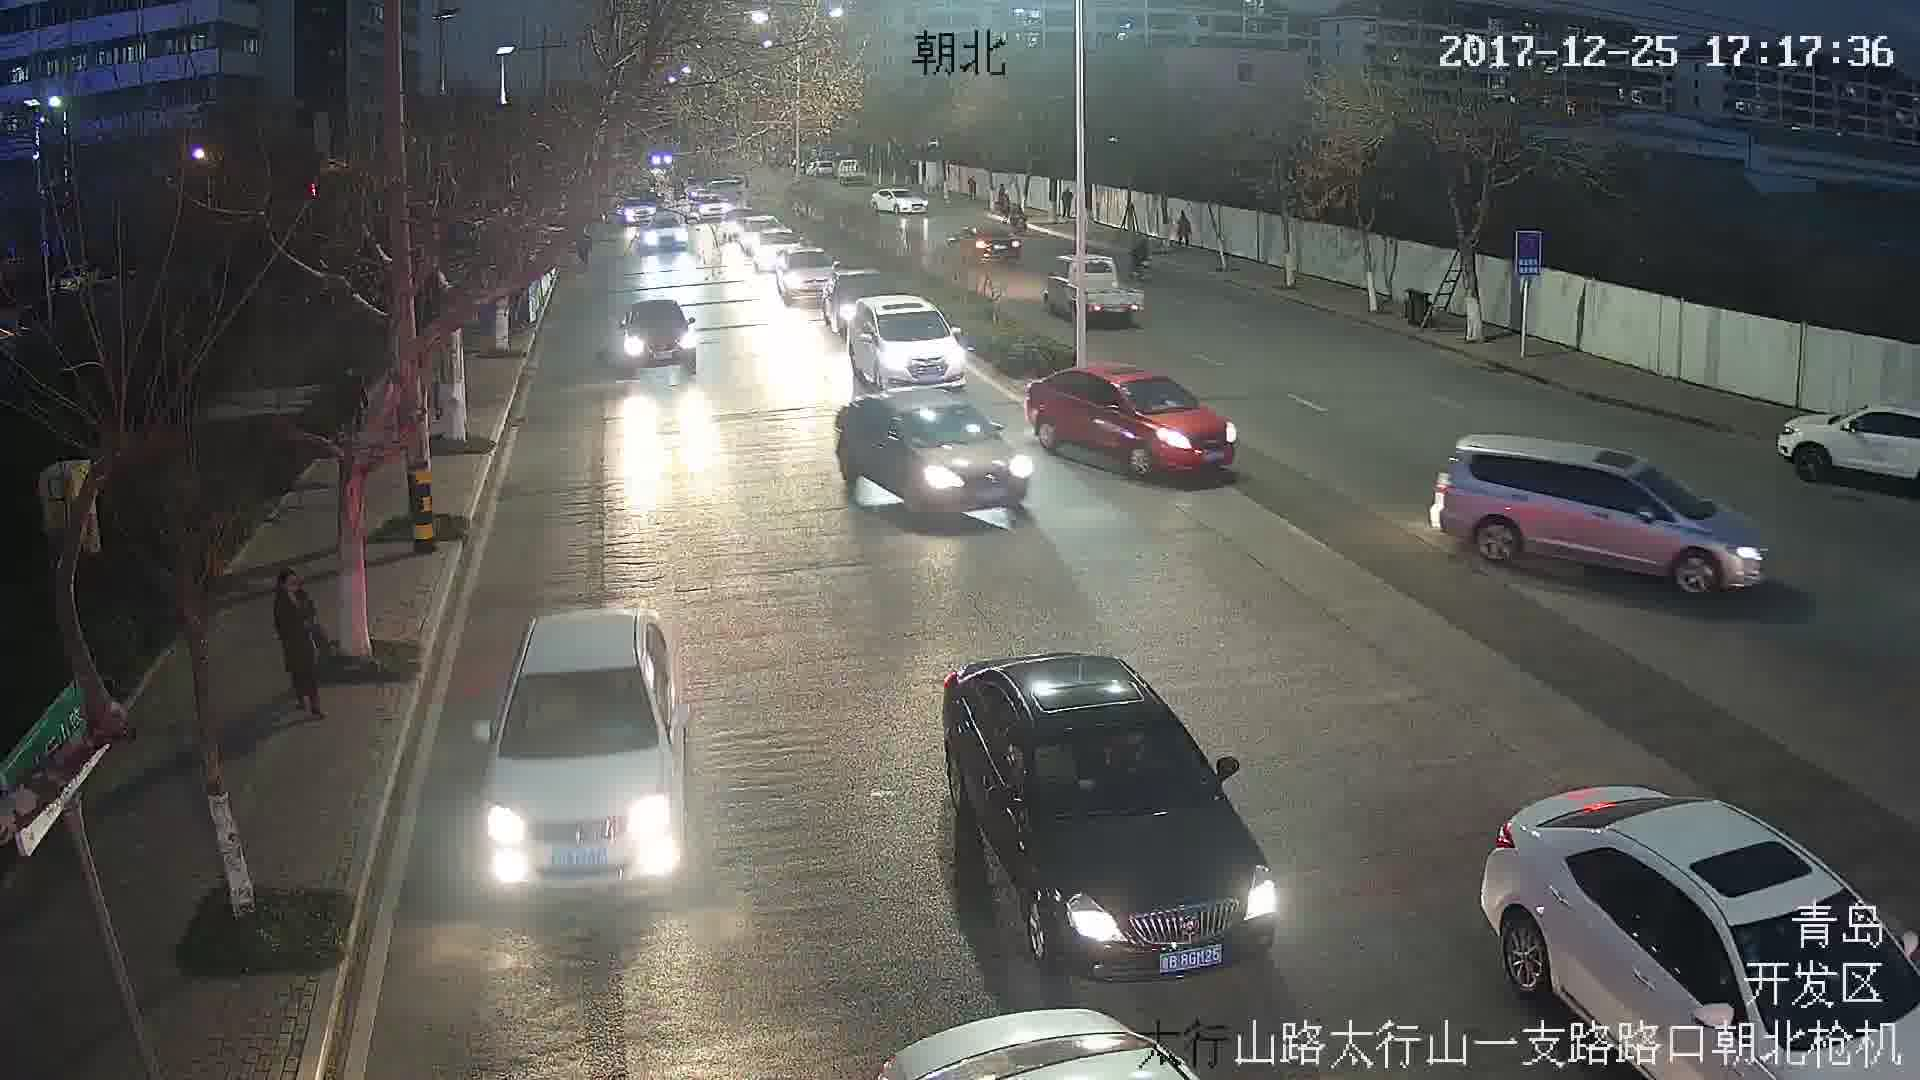car: (934, 646, 1275, 985), (470, 606, 688, 898), (1430, 432, 1775, 595), (831, 385, 1031, 514), (1025, 355, 1242, 474), (850, 294, 966, 392), (612, 302, 702, 375), (948, 225, 1018, 262), (780, 249, 832, 298), (870, 185, 927, 219)
person: (271, 575, 330, 712), (1178, 212, 1191, 244)
